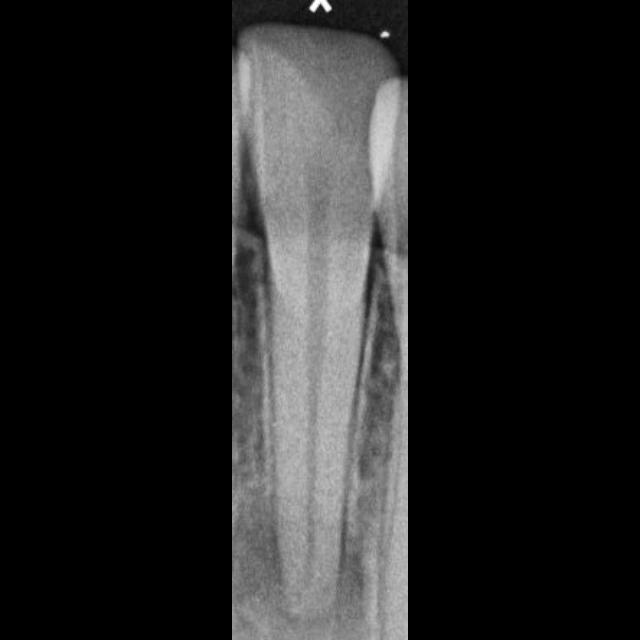tooth: (232, 22, 403, 616)
